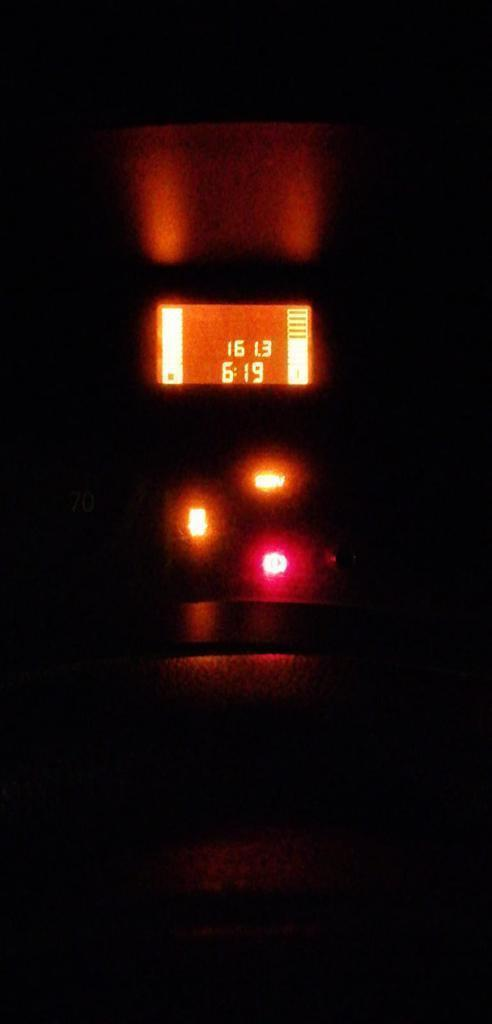,: (257, 352, 261, 358)
1: (242, 361, 249, 382), (225, 339, 233, 356), (251, 339, 258, 357)
3: (262, 339, 272, 358)
6: (220, 360, 232, 383), (233, 339, 245, 357)
9: (250, 361, 264, 383)
X: (233, 366, 237, 377)
odometer: (151, 300, 315, 388)
